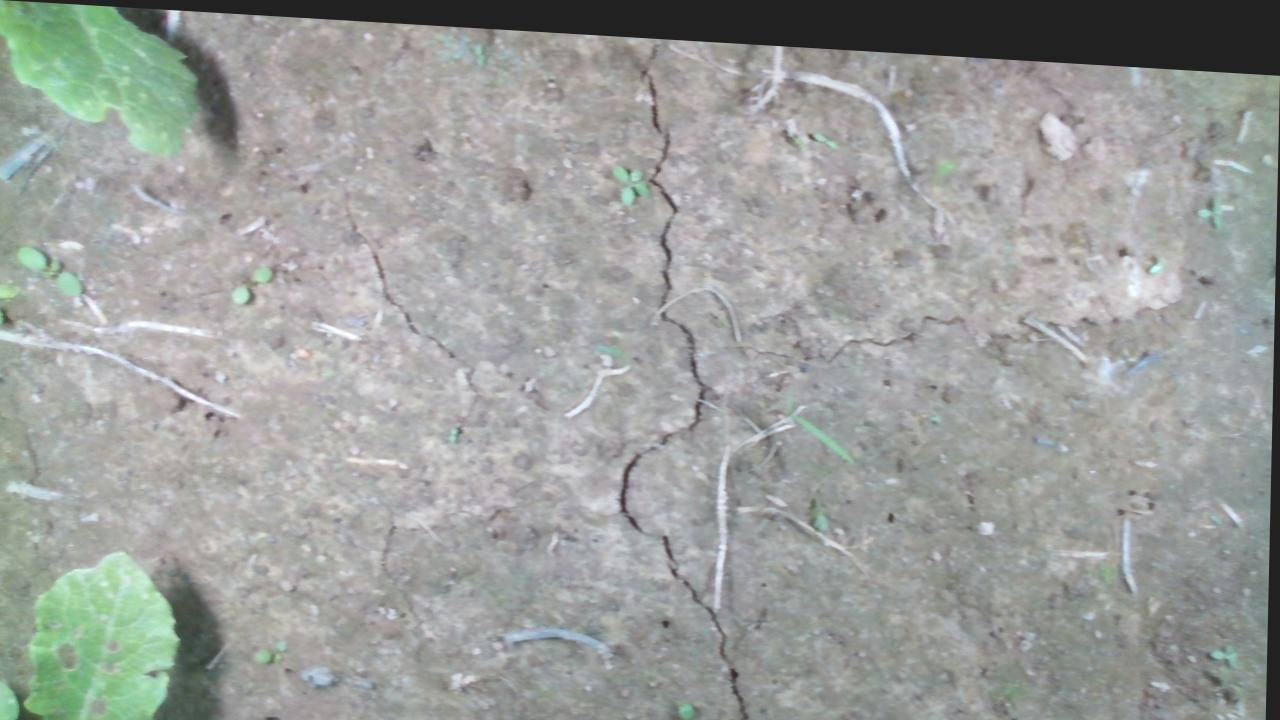weed: (12, 243, 84, 296), (230, 258, 276, 303)
